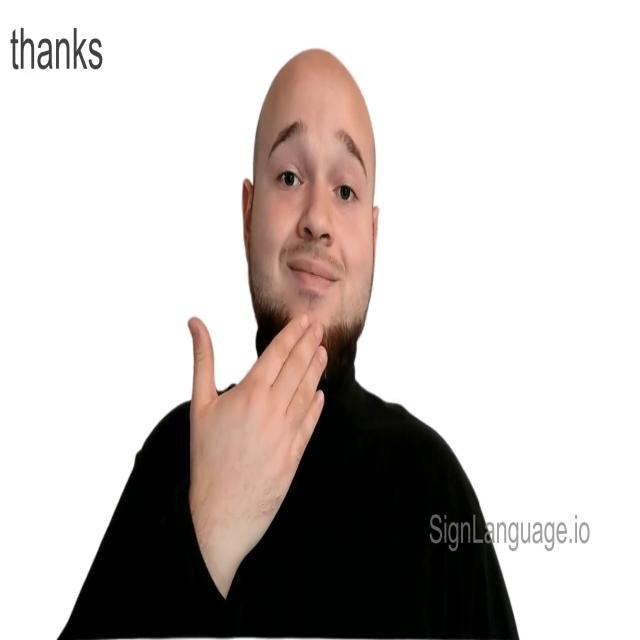thankyou: (181, 152, 383, 570)
